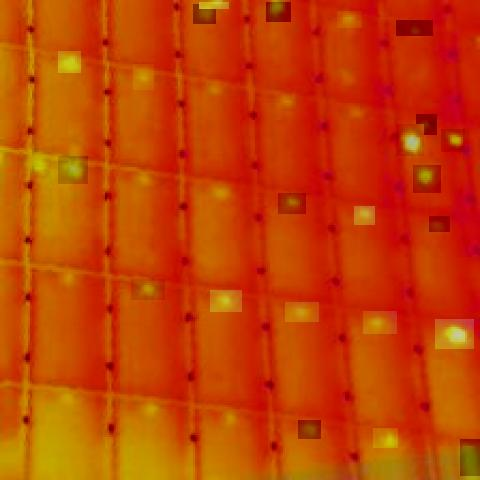fault: (435, 320, 474, 350), (396, 125, 424, 156), (58, 156, 88, 184), (414, 165, 442, 193), (363, 311, 397, 334), (460, 439, 480, 476), (203, 180, 238, 201), (131, 279, 165, 300), (210, 290, 242, 312), (285, 302, 319, 322), (28, 152, 51, 178), (396, 20, 433, 36), (278, 193, 306, 214), (441, 129, 465, 152), (133, 64, 154, 90), (58, 51, 81, 73), (266, 2, 291, 22), (373, 428, 398, 448), (193, 4, 216, 24), (416, 114, 437, 135), (298, 420, 321, 439), (337, 11, 362, 28), (354, 206, 375, 225), (276, 90, 296, 109), (429, 216, 450, 232), (200, 2, 230, 9)
